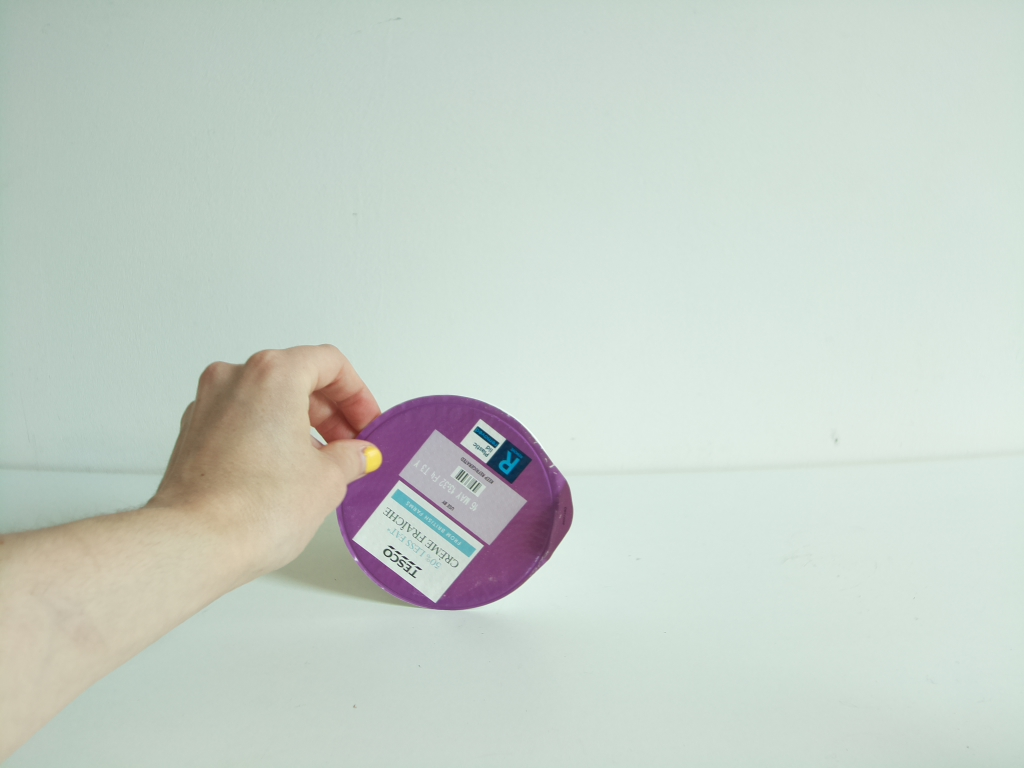cream: (333, 394, 577, 619)
